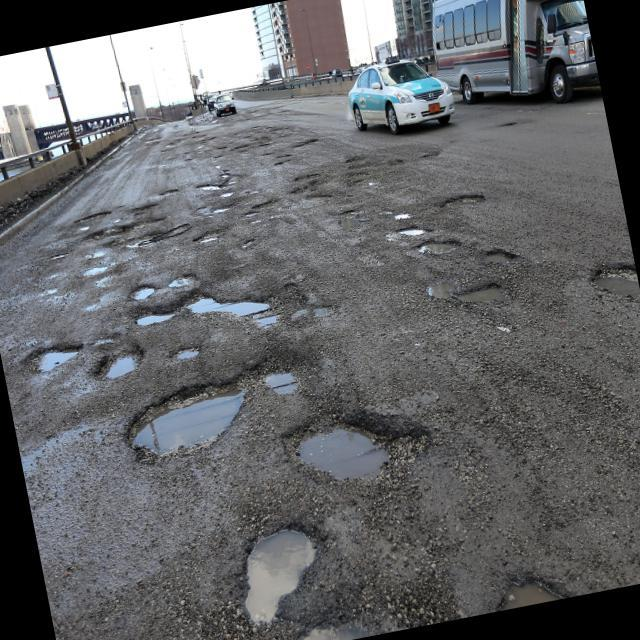Pothole: (272, 388, 434, 502), (220, 507, 332, 638), (117, 368, 257, 466), (182, 276, 274, 330), (492, 560, 572, 611), (289, 607, 373, 640), (588, 255, 640, 307), (260, 348, 304, 404), (25, 338, 86, 376), (93, 340, 145, 383), (455, 276, 510, 316), (417, 268, 461, 309), (412, 230, 462, 260), (437, 185, 485, 215), (136, 302, 181, 332), (79, 222, 137, 245), (330, 200, 365, 236), (116, 228, 170, 250), (483, 242, 518, 274), (72, 204, 115, 228), (397, 220, 429, 240), (128, 282, 158, 302), (392, 204, 418, 227), (154, 182, 184, 200), (172, 272, 196, 294), (314, 298, 338, 320), (254, 308, 280, 328), (196, 233, 222, 253), (197, 177, 227, 194), (239, 232, 258, 253), (217, 184, 239, 202), (213, 201, 233, 215)
